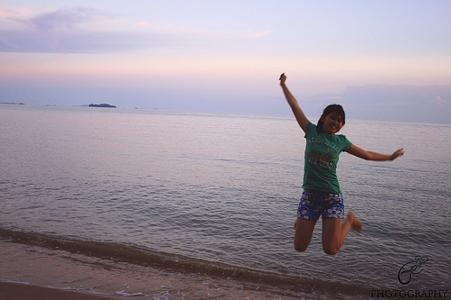person: (277, 72, 404, 255)
